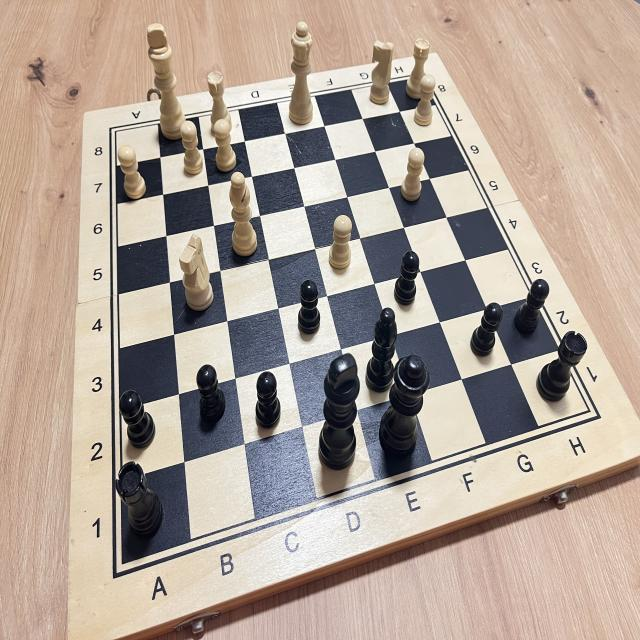black-bishop: (360, 301, 402, 403)
black-king: (314, 344, 362, 476)
black-pawn: (192, 357, 232, 437), (116, 386, 160, 454), (513, 275, 552, 348), (466, 296, 507, 360), (250, 366, 288, 435), (292, 273, 328, 339), (392, 245, 427, 312)
black-queen: (371, 341, 431, 476)
black-rook: (106, 459, 169, 547), (533, 320, 588, 412)
white-bishop: (222, 160, 260, 262)
white-king: (137, 11, 190, 150)
white-knight: (176, 231, 220, 325), (366, 36, 398, 107)
white-pawn: (111, 140, 153, 205), (396, 142, 431, 210), (208, 110, 244, 176), (173, 116, 210, 179), (323, 210, 356, 274), (411, 70, 438, 132)
white-queen: (283, 19, 320, 130)
white-rook: (403, 33, 437, 106), (204, 63, 237, 136)
